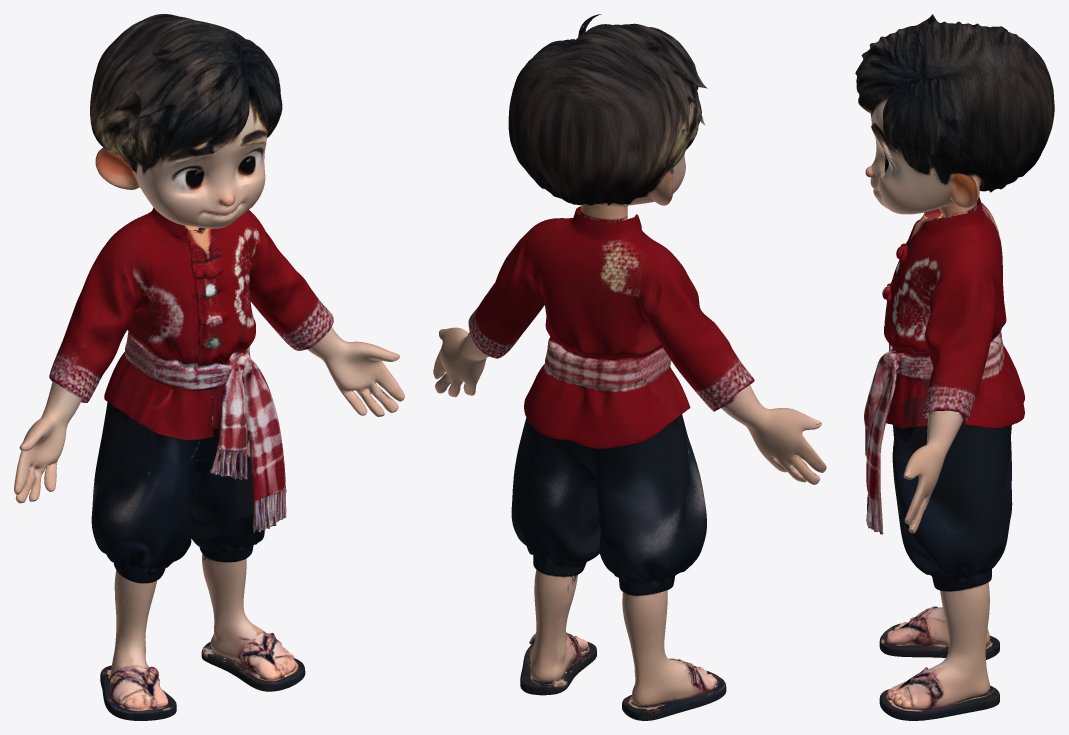
Rendered from player.glb.
The picture shows the model from 3 angles, left to right: view 1: azimuth 30°, elevation 25°; view 2: azimuth 150°, elevation 25°; view 3: azimuth 270°, elevation 25°; orthographic projection.
Visible parts, largest first — view 1: model; view 2: model; view 3: model.
Part boxes in pixels (x1,y1,x2,y2): model: [14, 14, 404, 720]; model: [433, 14, 826, 720]; model: [855, 14, 1054, 720].
Size of the model in its own units: 1.18 by 1.9 by 0.5265.
1 material, 1 textured.
